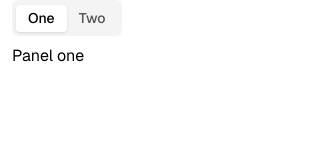
Test: Tabs › switches panels on trigger click
Expected: the text "Panel one" is shown, x1=12 y1=45 x2=84 y2=66
Click the tab "Two" at (92, 18), box x1=67 y1=4 x2=118 y2=32
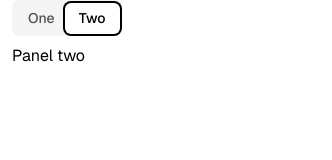
Result: the text "Panel two" is shown at x1=12 y1=45 x2=85 y2=66
